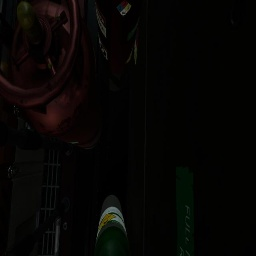0: (93, 195, 131, 256)
NitrogenTank ,: (0, 0, 102, 149), (95, 0, 143, 91)
